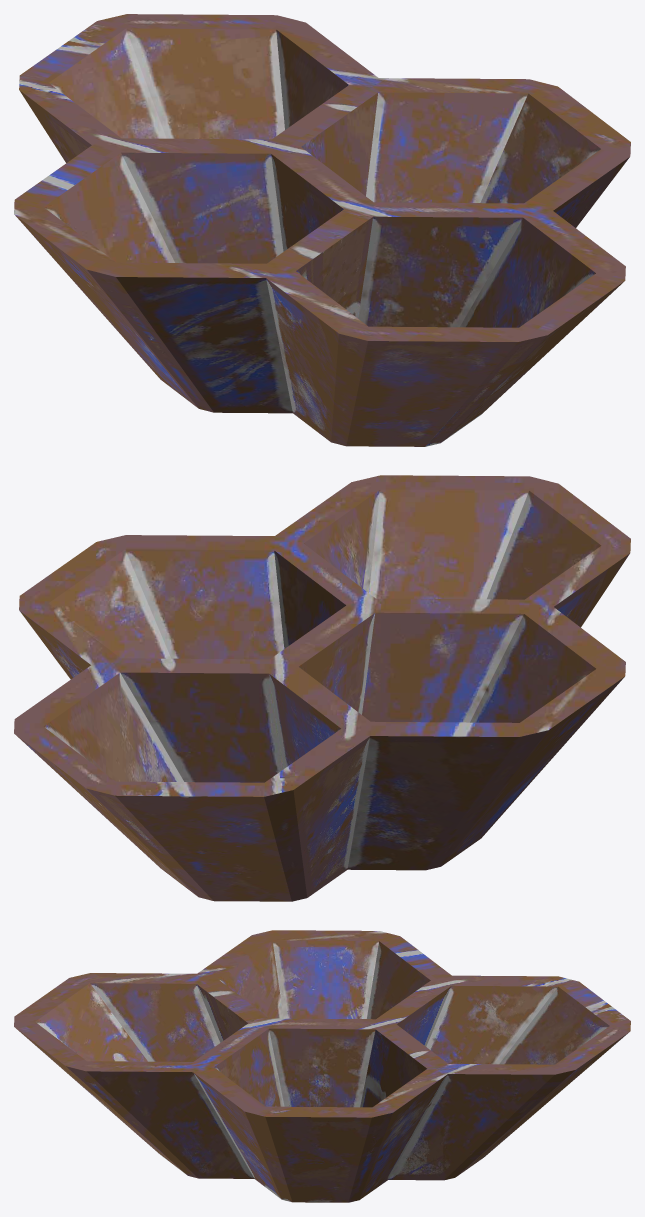
The model's file is HoneyComb.fbx.
The picture shows the model from 3 angles, top to bottom: view 1: azimuth 30°, elevation 25°; view 2: azimuth 150°, elevation 25°; view 3: azimuth 270°, elevation 25°; orthographic projection. The views are drawn at different scales.
Parts seen in each view (by area): view 1: HoneyComb; view 2: HoneyComb; view 3: HoneyComb.
Part boxes in pixels (bbox=[...]): HoneyComb: bbox=[14, 14, 630, 446]; HoneyComb: bbox=[14, 475, 630, 901]; HoneyComb: bbox=[14, 930, 630, 1202].
Bounding box in the file's own units: 184 × 59.39 × 256.
Materials: 1 (1 with a texture image).
